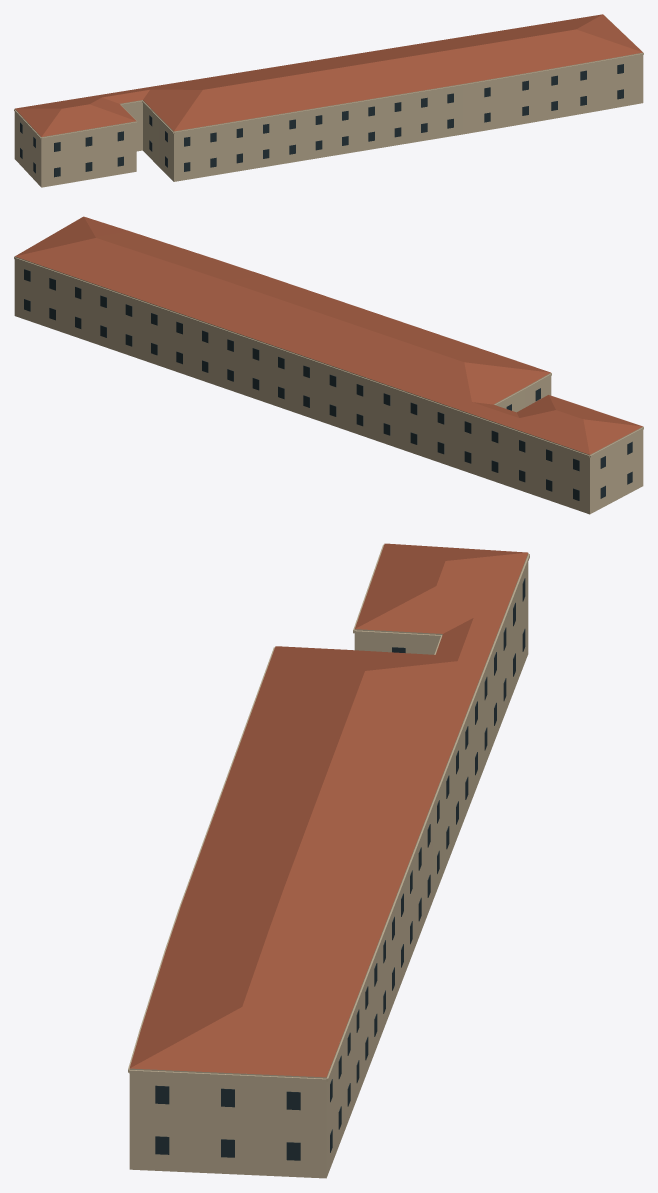
Rendered from sinopie.glb.
The picture shows the model from 3 angles, top to bottom: view 1: azimuth 30°, elevation 25°; view 2: azimuth 150°, elevation 25°; view 3: azimuth 270°, elevation 25°; orthographic projection. The views are drawn at different scales.
Parts seen in each view (by area): view 1: primary-envelope, primary-roof, window-rhythm, cornice; view 2: primary-roof, primary-envelope, window-rhythm, cornice; view 3: primary-roof, primary-envelope, window-rhythm, cornice.
Part boxes in pixels (x1,y1,x2,y2): primary-envelope: (14, 52, 643, 187); primary-roof: (15, 14, 642, 136); window-rhythm: (20, 64, 623, 177); cornice: (14, 15, 643, 139); primary-roof: (15, 216, 642, 454); primary-envelope: (14, 256, 643, 514); window-rhythm: (24, 269, 632, 500); cornice: (14, 256, 643, 457); primary-roof: (129, 543, 527, 1077); primary-envelope: (129, 553, 528, 1178); window-rhythm: (155, 578, 525, 1160); cornice: (128, 544, 529, 1082).
Size of the model in its own units: 16 by 1.76 by 5.08.
